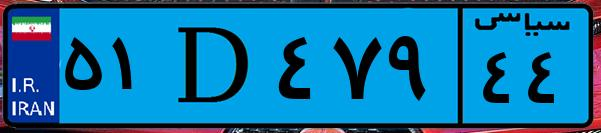1: (110, 28, 158, 98)
4: (270, 28, 330, 110), (475, 38, 525, 113), (525, 38, 570, 115)
5: (57, 26, 110, 100)
7: (330, 28, 385, 110)
9: (385, 28, 445, 110)
D: (158, 12, 270, 120)
